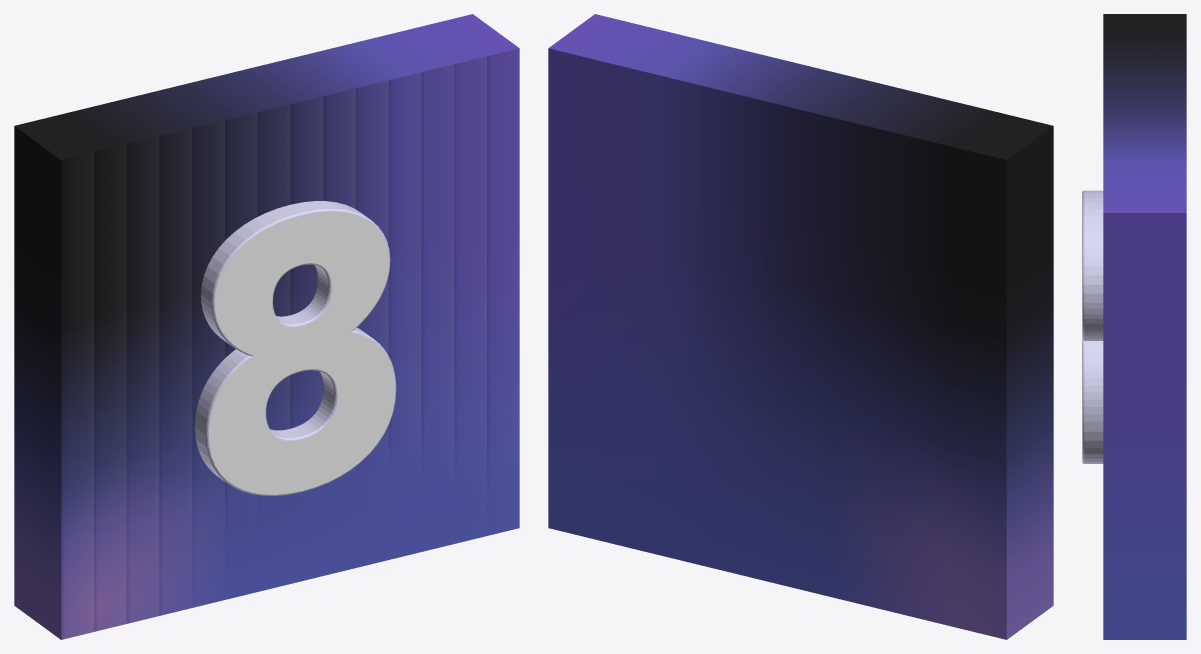
File: 8club.gltf
3 views of the same model, side by side, from view 1: azimuth 30°, elevation 25°; view 2: azimuth 150°, elevation 25°; view 3: azimuth 270°, elevation 25° (orthographic). The views are drawn at different scales.
Parts seen in each view (by area): view 1: stripes, tile, eight; view 2: tile; view 3: tile, eight.
Part boxes in pixels (bbox=[...]): stripes: bbox=[61, 48, 519, 639]; tile: bbox=[14, 14, 518, 639]; eight: bbox=[195, 201, 396, 495]; tile: bbox=[548, 14, 1053, 639]; tile: bbox=[1103, 14, 1186, 639]; eight: bbox=[1082, 190, 1103, 463].
Bounding box in the file's own units: 7.02 × 7.02 × 1.56.
